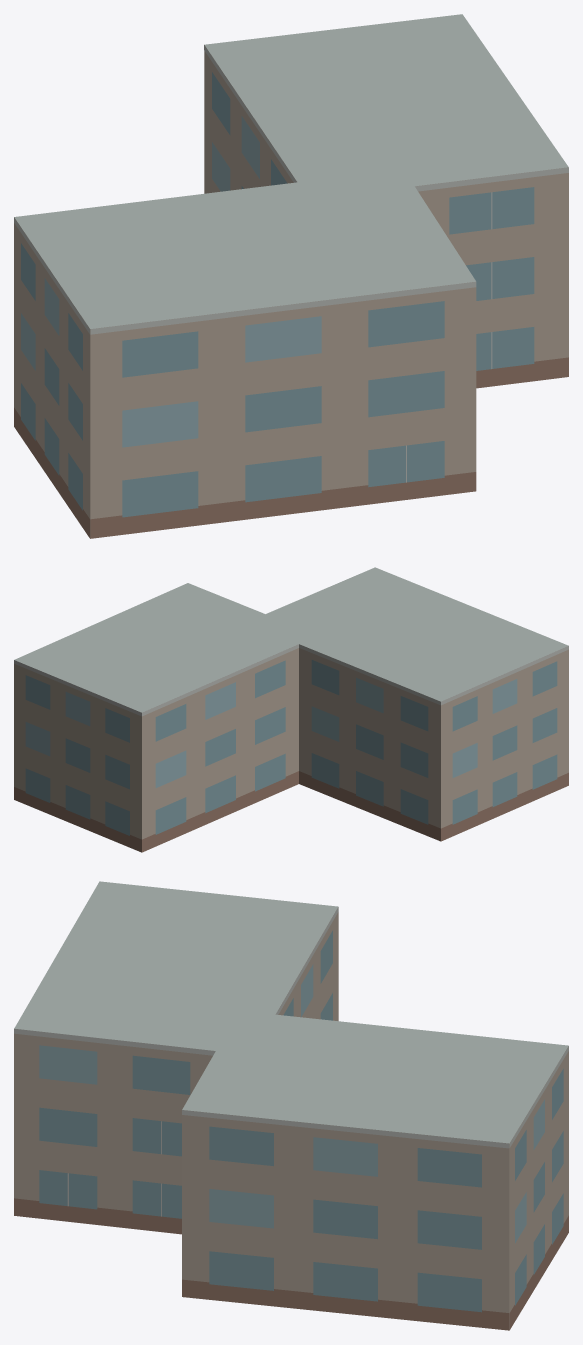
Rendered from survey-upis-32546816.glb.
3 renders of one model, top to bottom at view 1: azimuth 30°, elevation 25°; view 2: azimuth 150°, elevation 25°; view 3: azimuth 270°, elevation 25°, orthographic. The views are drawn at different scales.
Visible parts, largest first — view 1: survey-upis-32546816.tmp; view 2: survey-upis-32546816.tmp; view 3: survey-upis-32546816.tmp.
Boxes of the visible parts, x1,y1,x2,y2 form: survey-upis-32546816.tmp: (14,14,568,538); survey-upis-32546816.tmp: (14,567,568,852); survey-upis-32546816.tmp: (14,881,568,1330).
Bounding box in the file's own units: 27.51 × 9.15 × 24.6.
